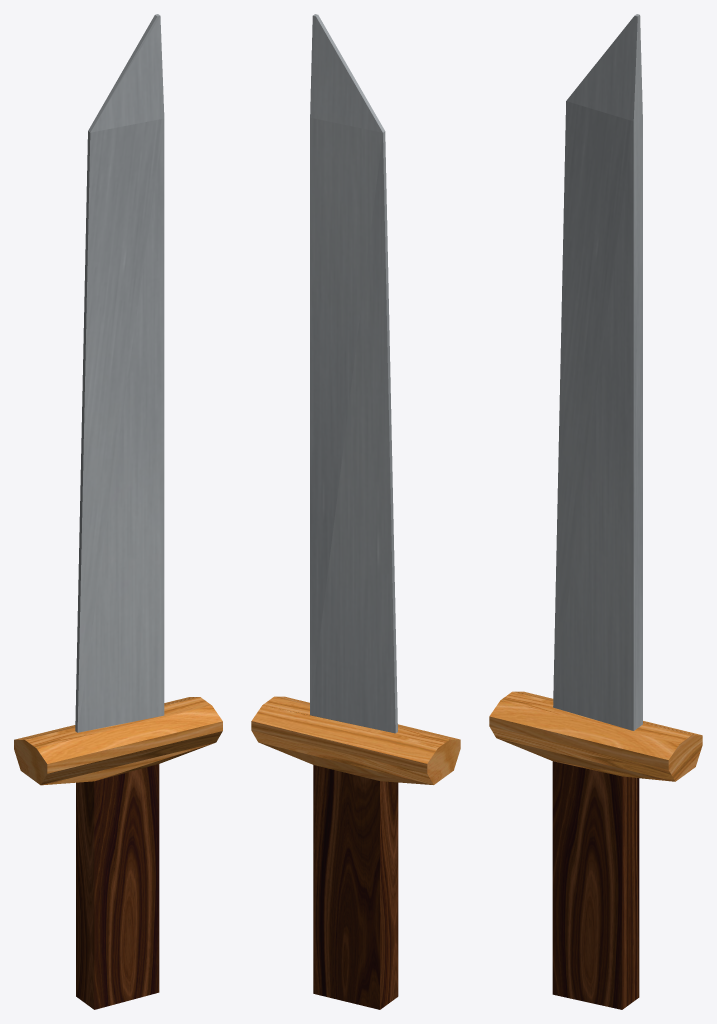
File: sword_lowpoly.FBX
The picture shows the model from 3 angles, left to right: view 1: azimuth 30°, elevation 25°; view 2: azimuth 150°, elevation 25°; view 3: azimuth 330°, elevation 25°; orthographic projection. The views are drawn at different scales.
Visible parts, largest first — view 1: sword_lowpoly; view 2: sword_lowpoly; view 3: sword_lowpoly.
Part boxes in pixels (x1,y1,x2,y2): sword_lowpoly: (14,14,222,1009); sword_lowpoly: (251,14,460,1009); sword_lowpoly: (489,14,702,1009).
Bounding box in the file's own units: 51.01 × 269 × 16.76.
